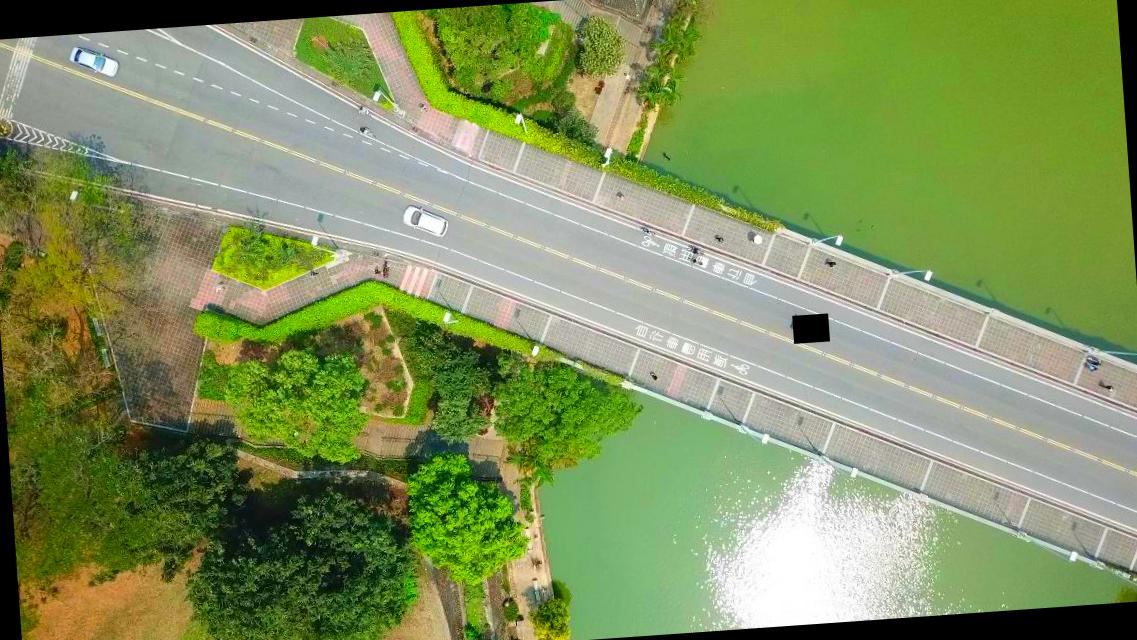vehicle: (68, 43, 119, 80), (402, 202, 449, 240)
